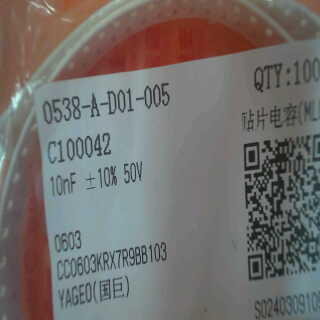10nF: (46, 168, 81, 203)
